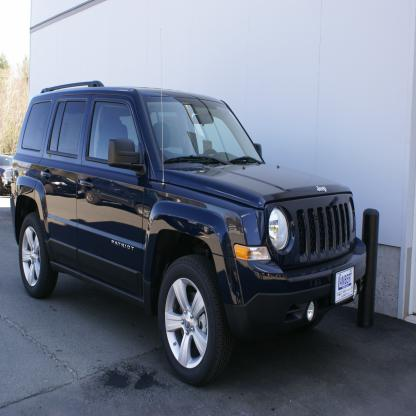Vehicle: (11, 77, 370, 386)
